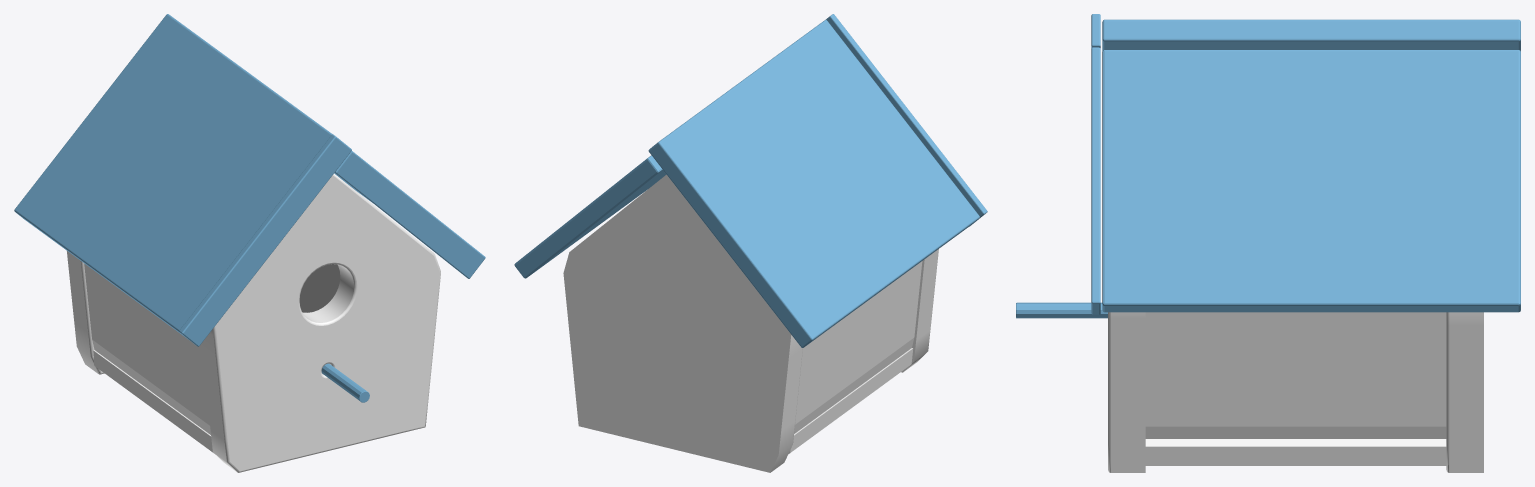
The picture shows the model from 3 angles, left to right: view 1: azimuth 30°, elevation 25°; view 2: azimuth 150°, elevation 25°; view 3: azimuth 270°, elevation 25°; orthographic projection. The views are drawn at different scales.
Parts seen in each view (by area): view 1: roof_left, Cap_1_3, Path_1, roof_left.1, Cube, front, Rounding, Path_3, BAck, Path_2, Cylinder; view 2: roof_left, Cap_2_4, Path_1, Cube.1, roof_left.1, Path_3, BAck, front; view 3: Cube.1, Path_2, roof_left, Path_3, front, BAck, Cube, Cylinder, Rounding_1.
Part boxes in pixels (x1=…): roof_left: x1=14, y1=14, x2=332, y2=339; Cap_1_3: x1=216, y1=175, x2=439, y2=471; Path_1: x1=84, y1=263, x2=210, y2=434; roof_left.1: x1=179, y1=134, x2=351, y2=346; Cube: x1=334, y1=151, x2=485, y2=278; front: x1=201, y1=264, x2=354, y2=471; Rounding: x1=213, y1=173, x2=440, y2=472; Path_3: x1=93, y1=350, x2=213, y2=452; BAck: x1=67, y1=251, x2=98, y2=373; Path_2: x1=299, y1=264, x2=340, y2=312; Cylinder: x1=321, y1=363, x2=369, y2=402; roof_left: x1=648, y1=20, x2=979, y2=347; Cap_2_4: x1=563, y1=175, x2=791, y2=472; Path_1: x1=794, y1=261, x2=922, y2=433; Cube.1: x1=514, y1=155, x2=666, y2=278; roof_left.1: x1=825, y1=14, x2=987, y2=226; Path_3: x1=790, y1=348, x2=913, y2=452; BAck: x1=770, y1=335, x2=802, y2=472; front: x1=903, y1=249, x2=938, y2=372; Cube.1: x1=1102, y1=50, x2=1520, y2=312; Path_2: x1=1145, y1=312, x2=1446, y2=438; roof_left: x1=1102, y1=19, x2=1520, y2=51; Path_3: x1=1145, y1=439, x2=1446, y2=465; front: x1=1111, y1=312, x2=1145, y2=472; BAck: x1=1449, y1=312, x2=1483, y2=472; Cube: x1=1091, y1=47, x2=1100, y2=314; Cylinder: x1=1016, y1=302, x2=1107, y2=318; Rounding_1: x1=1446, y1=312, x2=1449, y2=472.
Size of the model in its own units: 220 by 222 by 254.
